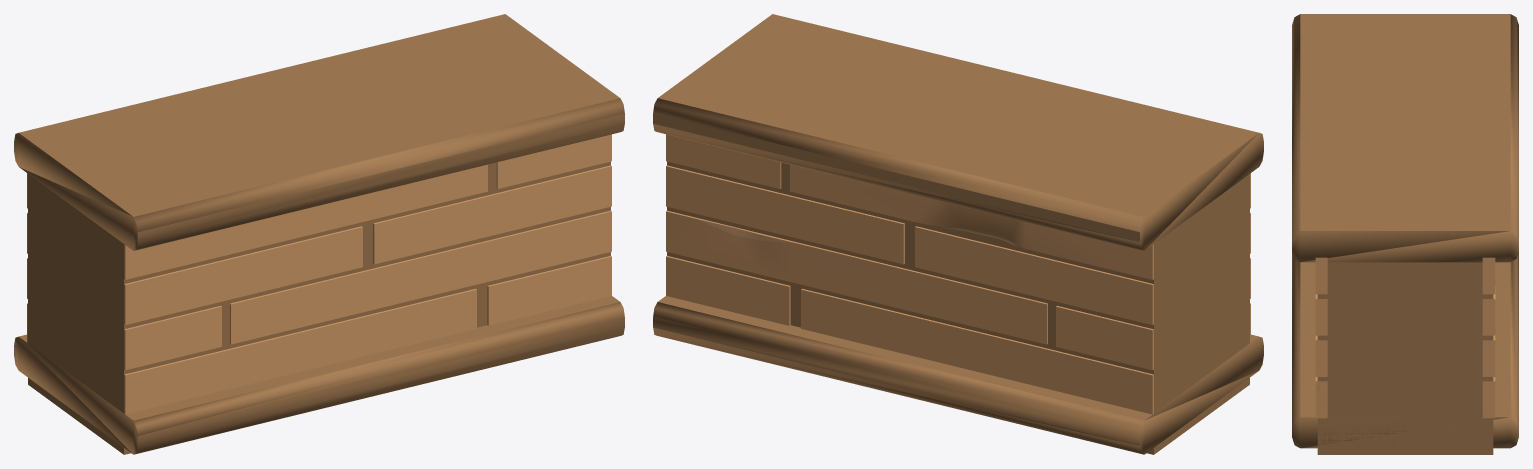
File: counter-straight.glb
3 renders of one model, left to right at view 1: azimuth 30°, elevation 25°; view 2: azimuth 150°, elevation 25°; view 3: azimuth 270°, elevation 25°, orthographic. The views are drawn at different scales.
Parts seen in each view (by area): view 1: counter-straight; view 2: counter-straight; view 3: counter-straight.
Part boxes in pixels (x1,y1,x2,y2): counter-straight: [14, 14, 624, 454]; counter-straight: [653, 14, 1263, 454]; counter-straight: [1292, 14, 1518, 454].
Size of the model in its own units: 1.87 by 0.9 by 0.8262.
